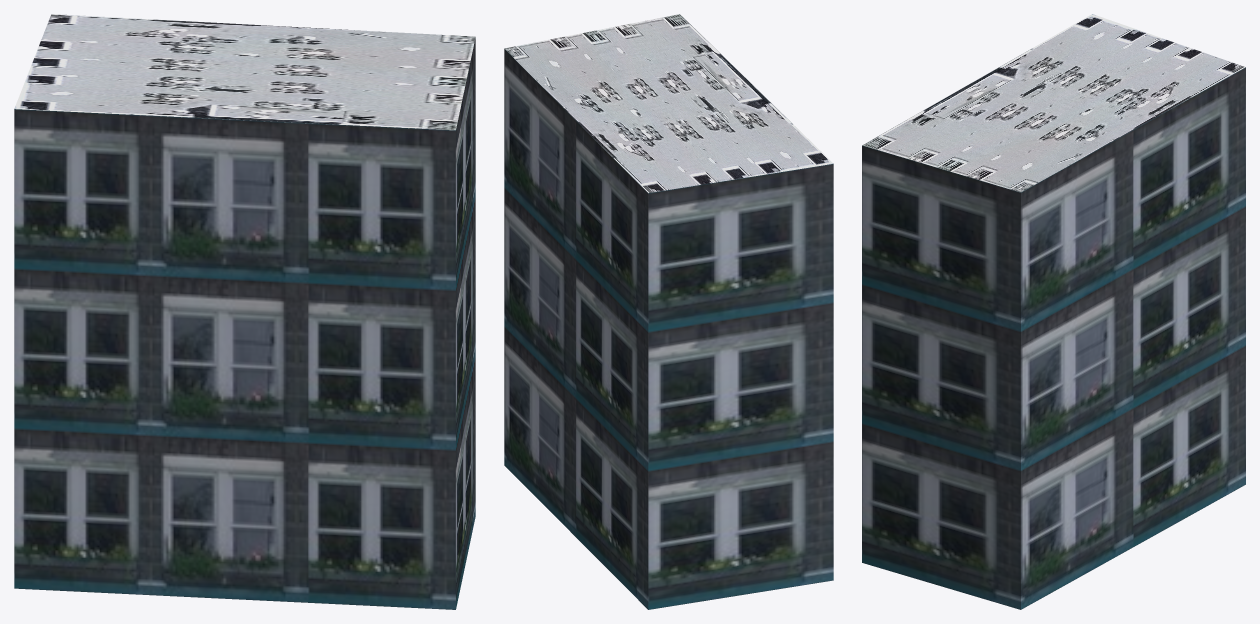
The model's file is ResTex__4984.fbx.
3 renders of one model, left to right at view 1: azimuth 30°, elevation 25°; view 2: azimuth 150°, elevation 25°; view 3: azimuth 270°, elevation 25°, orthographic. The views are drawn at different scales.
Parts seen in each view (by area): view 1: CityEngineMaterial_11_m, CityEngineMaterial_4_m; view 2: CityEngineMaterial_11_m, CityEngineMaterial_4_m; view 3: CityEngineMaterial_11_m, CityEngineMaterial_4_m.
Boxes of the visible parts, <box> form: CityEngineMaterial_11_m: <box>14,38,475,609</box>; CityEngineMaterial_4_m: <box>14,14,475,130</box>; CityEngineMaterial_11_m: <box>504,49,833,609</box>; CityEngineMaterial_4_m: <box>504,14,833,193</box>; CityEngineMaterial_11_m: <box>862,67,1245,609</box>; CityEngineMaterial_4_m: <box>862,14,1245,192</box>.
Size of the model in its own units: 8.26 by 9 by 7.5.
2 materials, 2 textured.
